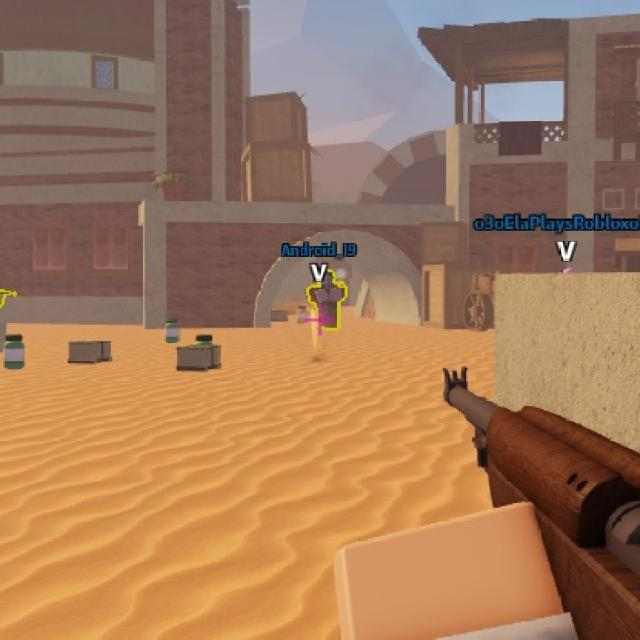player: (304, 269, 343, 336)
